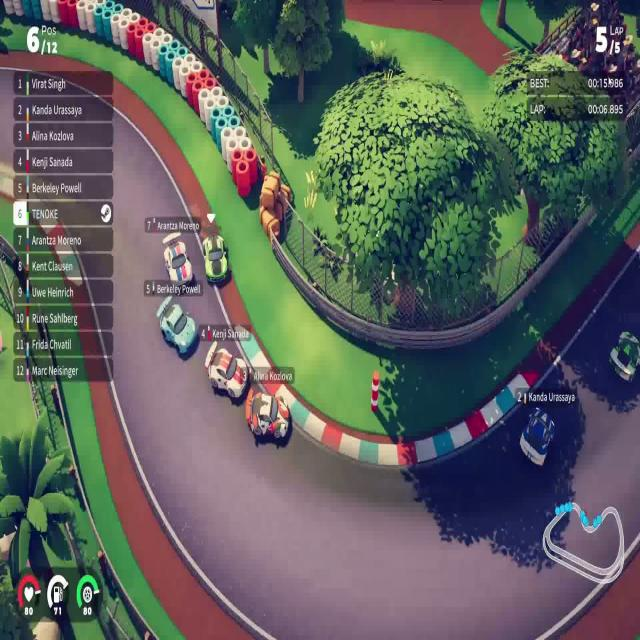car: (204, 340, 249, 400), (245, 386, 291, 442), (155, 295, 197, 355), (519, 406, 555, 468), (162, 238, 193, 287), (201, 232, 229, 286)
